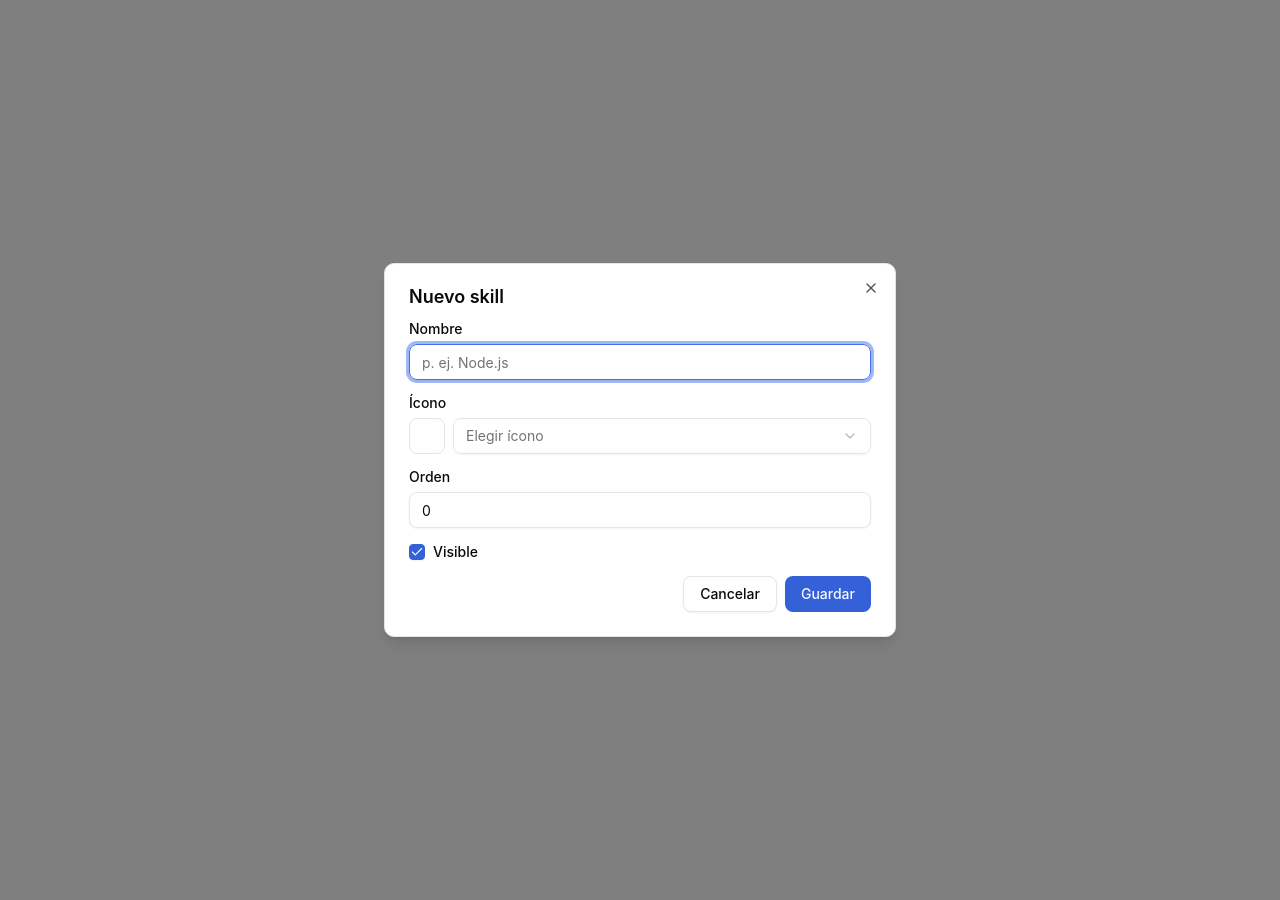
SkillFormDialog (nuevo) › rechaza un nombre duplicado (case-insensitive/trim) contra el catálogo existente
In the field labelled "Nombre": (640, 362) [409, 344, 871, 380], type "  react  "
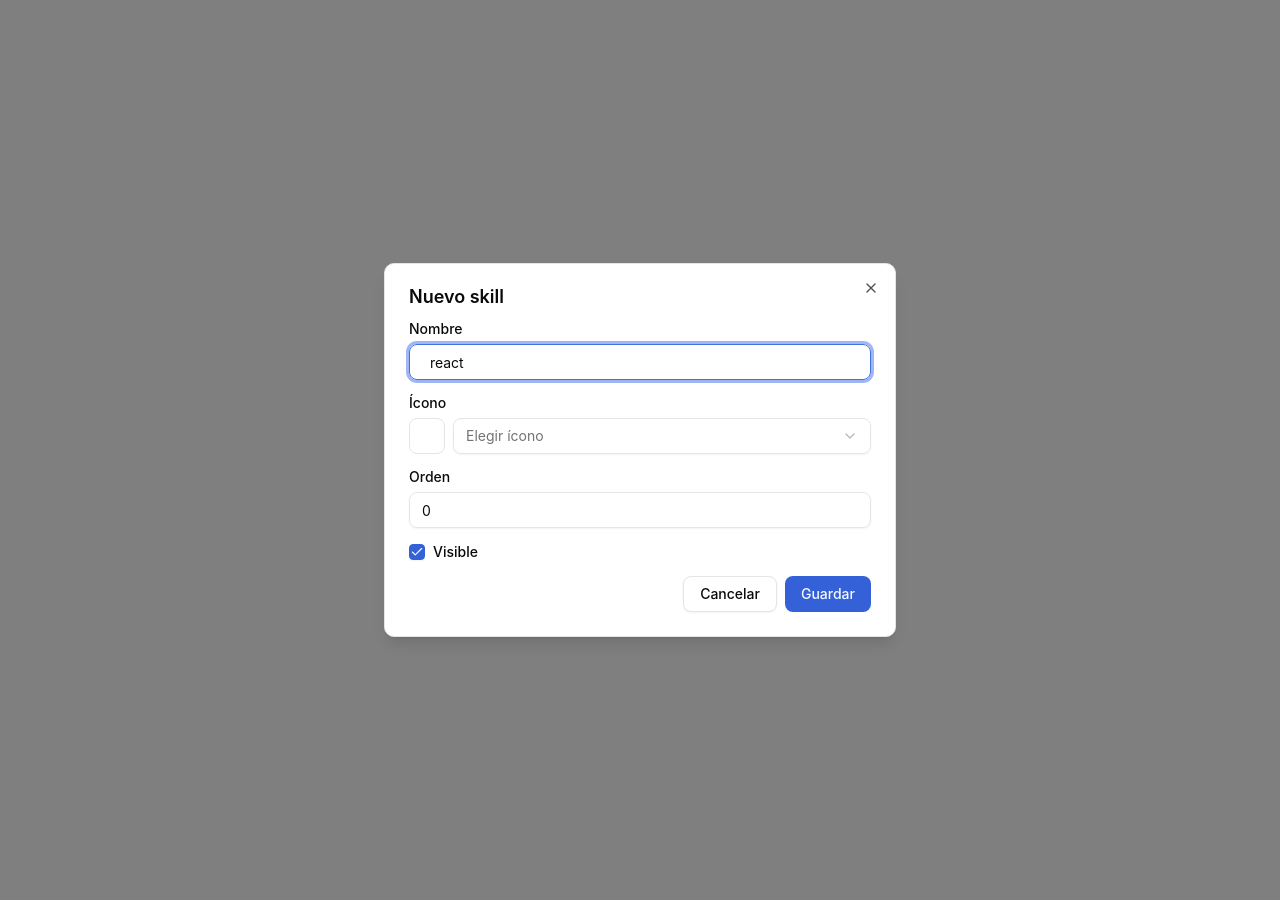
Click the button "Guardar": (828, 594) [785, 576, 871, 612]
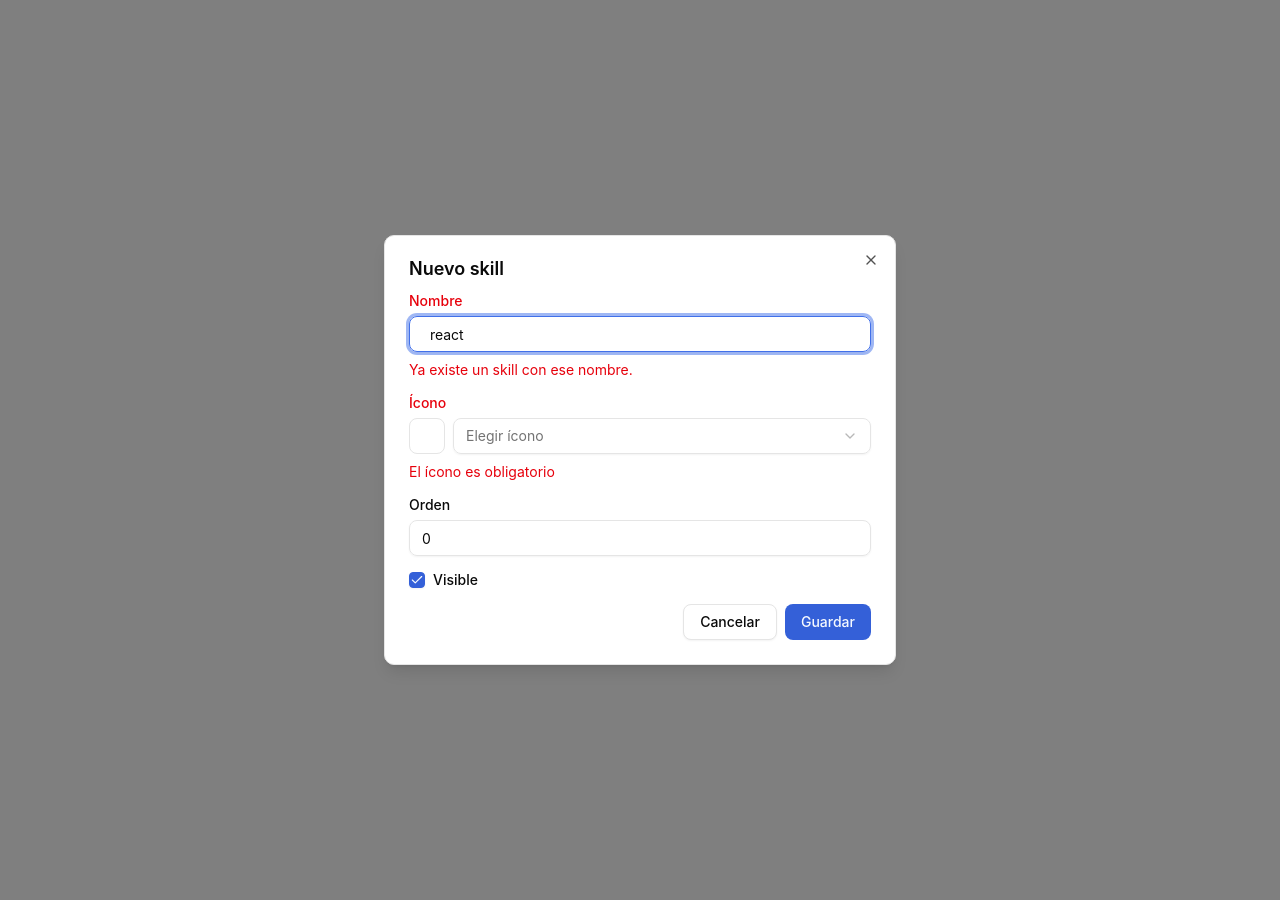
Expected: the text "Ya existe un skill con ese nombre." is shown, [409, 361, 633, 378]
